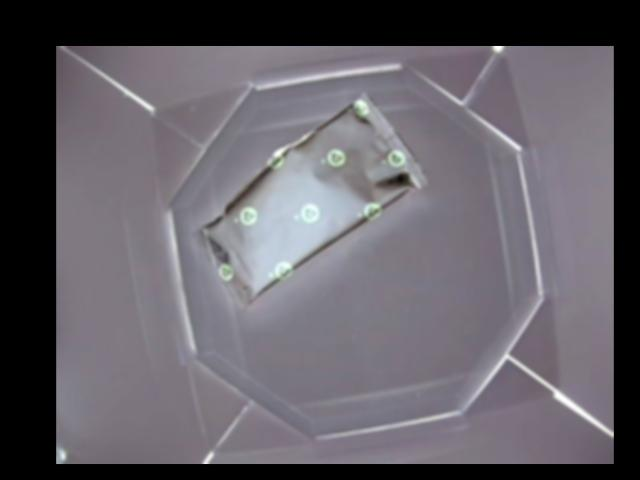Medicine: (189, 88, 429, 311)
